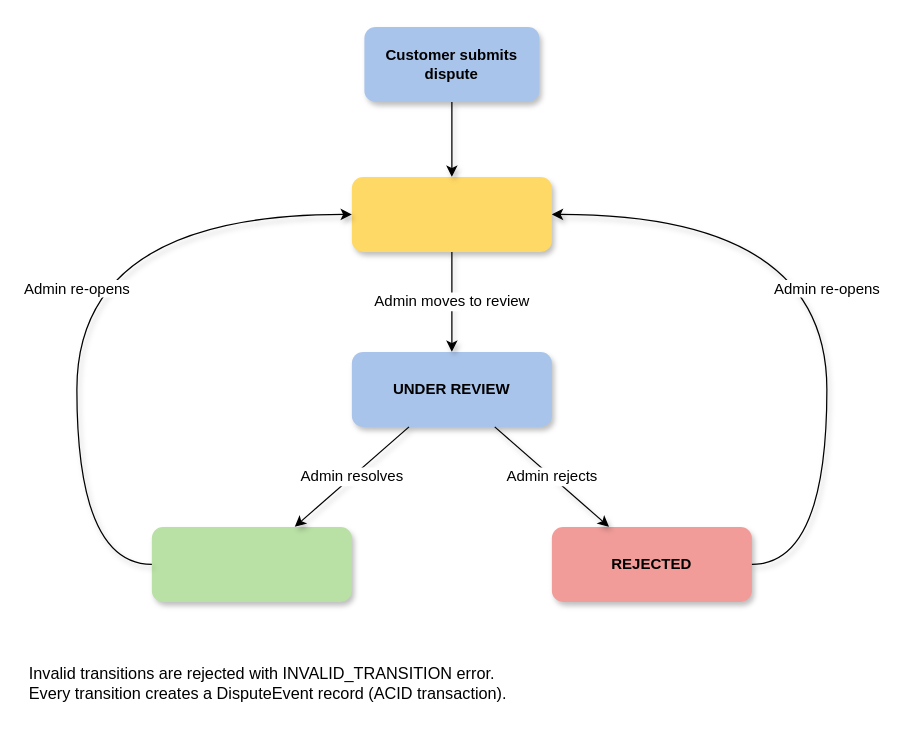
Image size: 900x744. Some labels were removed from this diagram. Each missing label, with the centre of its shape:
"PENDING" belongs at (452,215).
"RESOLVED" belongs at (252,565).
